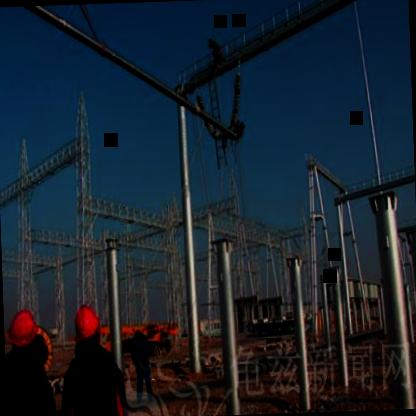helmet: (8, 308, 42, 358), (74, 304, 102, 350)
